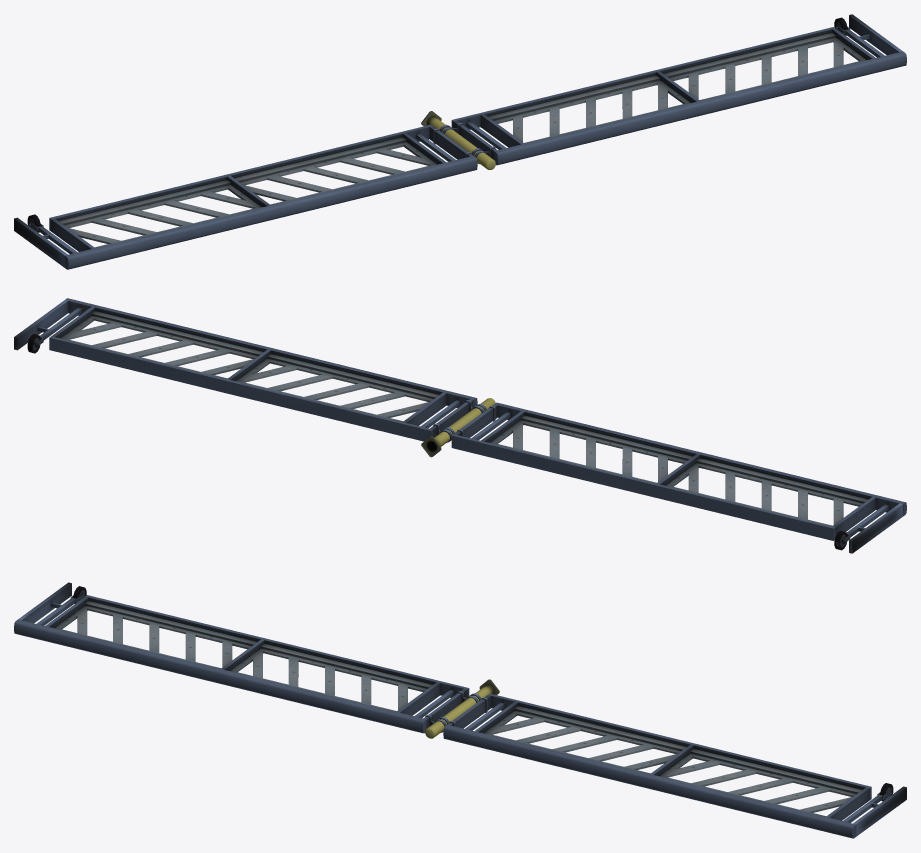
Rendered from nt_2020_street_gate_01_LOD0.obj.
3 renders of one model, top to bottom at view 1: azimuth 30°, elevation 25°; view 2: azimuth 150°, elevation 25°; view 3: azimuth 330°, elevation 25°, orthographic.
Parts seen in each view (by area): view 1: mtl_nt_2020_street_gate_01; view 2: mtl_nt_2020_street_gate_01; view 3: mtl_nt_2020_street_gate_01.
Boxes of the visible parts, bbox=[...] form: mtl_nt_2020_street_gate_01: bbox=[14, 14, 906, 269]; mtl_nt_2020_street_gate_01: bbox=[14, 298, 906, 553]; mtl_nt_2020_street_gate_01: bbox=[14, 582, 906, 838].
Size of the model in its own units: 857 by 19.58 by 107.
